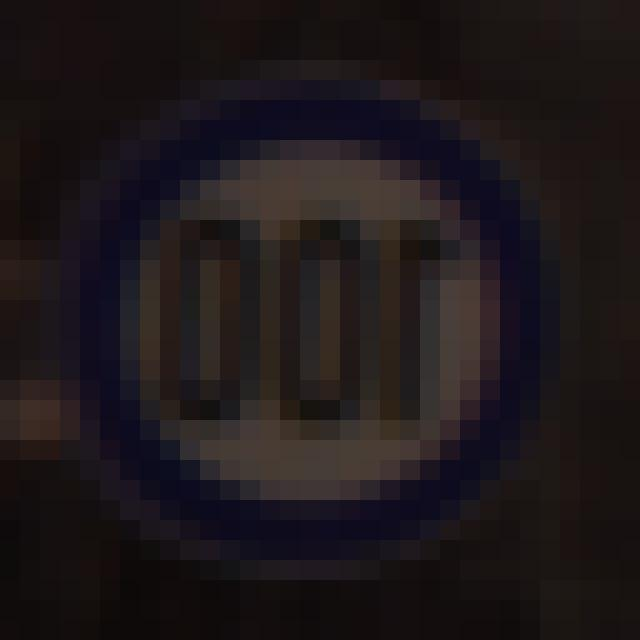SPEED LIMIT 100: (70, 89, 550, 566)
